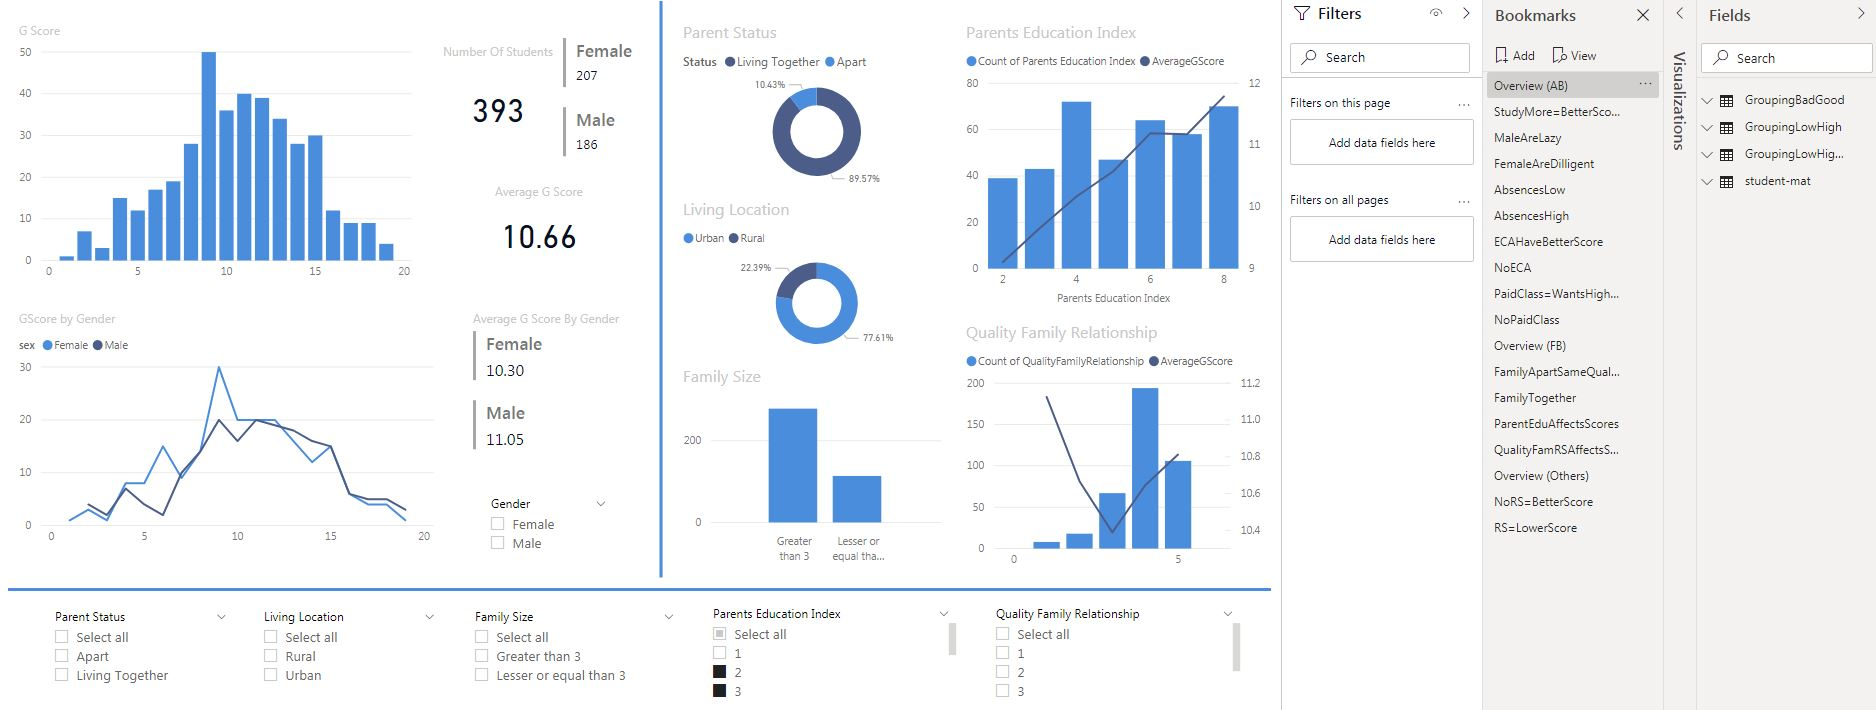

What the dashboard file says about the page in this screenshot:
{"tool":"powerbi","page":{"name":"G Score (Family Background)","canvas":[1280,720],"ordinal":2},"visuals":[{"type":"clusteredColumnChart","title":"G Score","fields":{"Y":["CountNonNull(student-mat.AverageGScore)"],"Category":["student-mat.AverageGScore"]},"box":[15.6,31.1,401.7,266.5],"z":0},{"type":"lineChart","title":"GScore by Gender","fields":{"Category":["student-mat.AverageGScore"],"Y":["CountNonNull(student-mat.AverageGScore)"],"Series":["student-mat.sex"]},"box":[15.6,318.1,424.1,244.1],"z":1000},{"type":"card","title":"Average G Score","fields":{"Values":["Avg(student-mat.AverageGScore)"]},"box":[438.7,191.6,201.3,85.6],"z":2000},{"type":"multiRowCard","title":"Number Of Student Based On Sex","fields":{"Values":["student-mat.sex","CountNonNull(student-mat.sex)"]},"box":[558.3,41.8,84.6,149.8],"z":3000},{"type":"card","title":"Number Of Students","fields":{"Values":["CountNonNull(student-mat.sex)"]},"box":[438.7,51.6,119.6,112.8],"z":4000},{"type":"multiRowCard","title":"Average G Score By Gender","fields":{"Values":["student-mat.sex","Avg(student-mat.AverageGScore)"]},"box":[468.8,318.1,159.5,179.9],"z":5000},{"type":"basicShape","box":[654.6,0,13.6,595.3],"z":6000},{"type":"slicer","fields":{"Values":["student-mat.Pstatus"]},"box":[43.8,610.8,196.5,102.1],"z":7000},{"type":"slicer","fields":{"Values":["student-mat.Living Location"]},"box":[252.9,610.8,195.5,102.1],"z":8000},{"type":"slicer","fields":{"Values":["student-mat.famsize"]},"box":[463,610.8,223.7,100.2],"z":9000},{"type":"slicer","fields":{"Values":["student-mat.Parents Education Index"]},"box":[700.3,607.9,260.7,102.1],"z":10000},{"type":"basicShape","box":[0,587.5,1280,14.6],"z":11000},{"type":"slicer","fields":{"Values":["student-mat.QualityFamilyRelationship"]},"box":[982.4,607.9,261.6,102.1],"z":12000},{"type":"lineClusteredColumnComboChart","title":"Parents Education Index","fields":{"Y":["CountNonNull(student-mat.Parents Education Index)"],"Y2":["Avg(student-mat.AverageGScore)"],"Category":["student-mat.Parents Education Index"]},"box":[961,30.2,304.4,287.9],"z":13000},{"type":"lineClusteredColumnComboChart","title":"Quality Family Relationship","fields":{"Category":["student-mat.QualityFamilyRelationship"],"Y":["CountNonNull(student-mat.QualityFamilyRelationship)"],"Y2":["Avg(student-mat.AverageGScore)"]},"box":[961,328.8,304.4,255.8],"z":14000},{"type":"donutChart","title":"Parent Status","fields":{"Category":["student-mat.Pstatus"],"Y":["CountNonNull(student-mat.Pstatus)"]},"box":[677.9,30.2,277.2,172.2],"z":15000},{"type":"clusteredColumnChart","title":"Family Size","fields":{"Category":["student-mat.famsize"],"Y":["CountNonNull(student-mat.famsize)"]},"box":[677.9,373.5,268.4,206.2],"z":16000},{"type":"donutChart","title":"Living Location","fields":{"Category":["student-mat.address"],"Y":["CountNonNull(student-mat.address)"]},"box":[677.9,206.2,277.2,162.4],"z":17000},{"type":"slicer","fields":{"Values":["student-mat.sex"]},"box":[478.5,498,140.1,81.7],"z":18000}]}

Visuals, with their boxes on the page's 1280x720 design canvas (x1, y1, x2, y2). These are canvas units, not pixel positions in the 1876x710 screenshot, which may show the page scaled, cropped or inside an application window:
"G Score" clusteredColumnChart: [16,31,417,298]
"GScore by Gender" lineChart: [16,318,440,562]
"Average G Score" card: [439,192,640,277]
"Number Of Student Based On Sex" multiRowCard: [558,42,643,192]
"Number Of Students" card: [439,52,558,164]
"Average G Score By Gender" multiRowCard: [469,318,628,498]
basicShape: [655,0,668,595]
slicer - student-mat.Pstatus: [44,611,240,713]
slicer - student-mat.Living Location: [253,611,448,713]
slicer - student-mat.famsize: [463,611,687,711]
slicer - student-mat.Parents Education Index: [700,608,961,710]
basicShape: [0,588,1280,602]
slicer - student-mat.QualityFamilyRelationship: [982,608,1244,710]
"Parents Education Index" lineClusteredColumnComboChart: [961,30,1265,318]
"Quality Family Relationship" lineClusteredColumnComboChart: [961,329,1265,585]
"Parent Status" donutChart: [678,30,955,202]
"Family Size" clusteredColumnChart: [678,374,946,580]
"Living Location" donutChart: [678,206,955,369]
slicer - student-mat.sex: [478,498,619,580]
